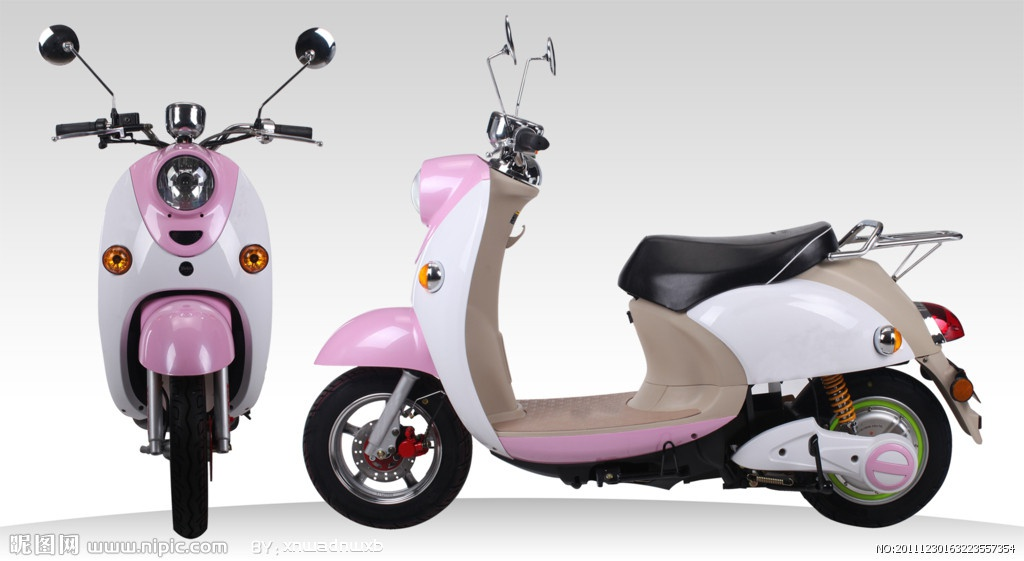non-vehicle: (311, 107, 975, 525), (55, 110, 314, 537)
